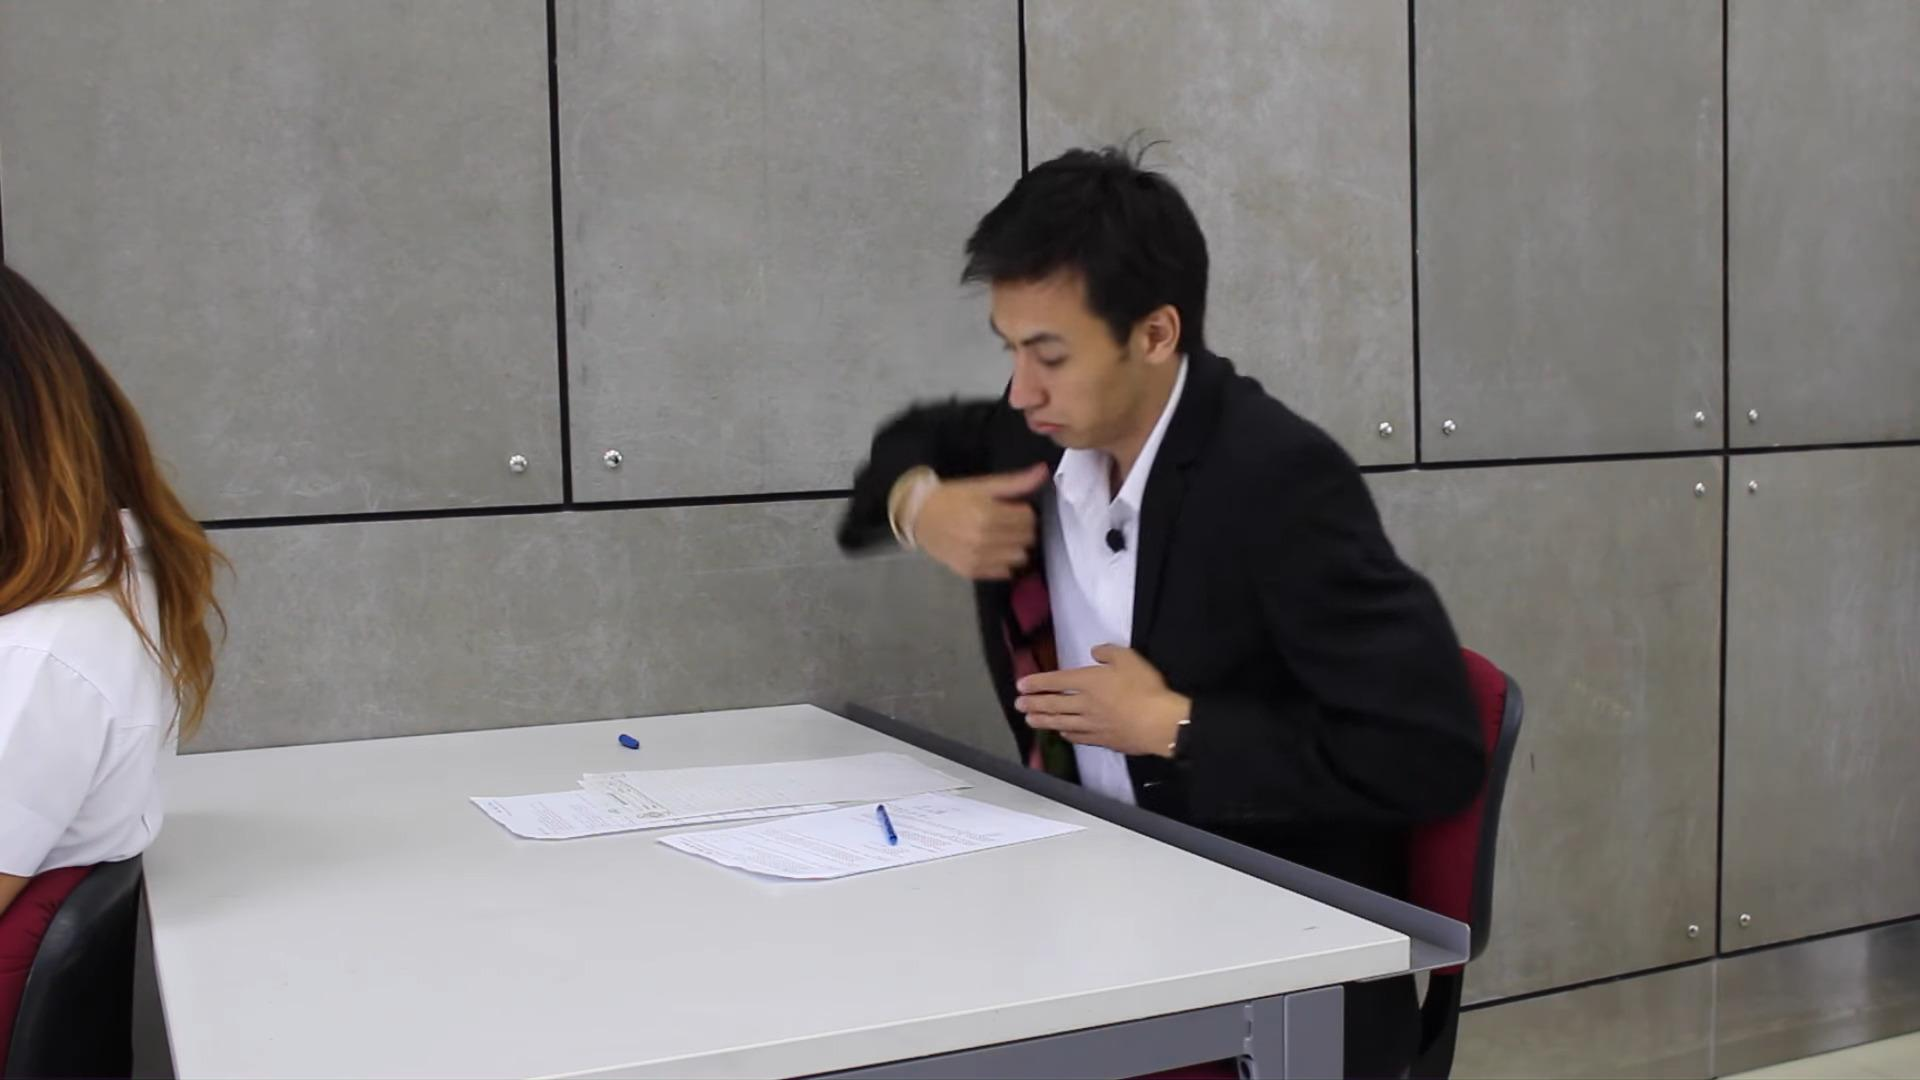cheating: (455, 111, 1503, 913)
